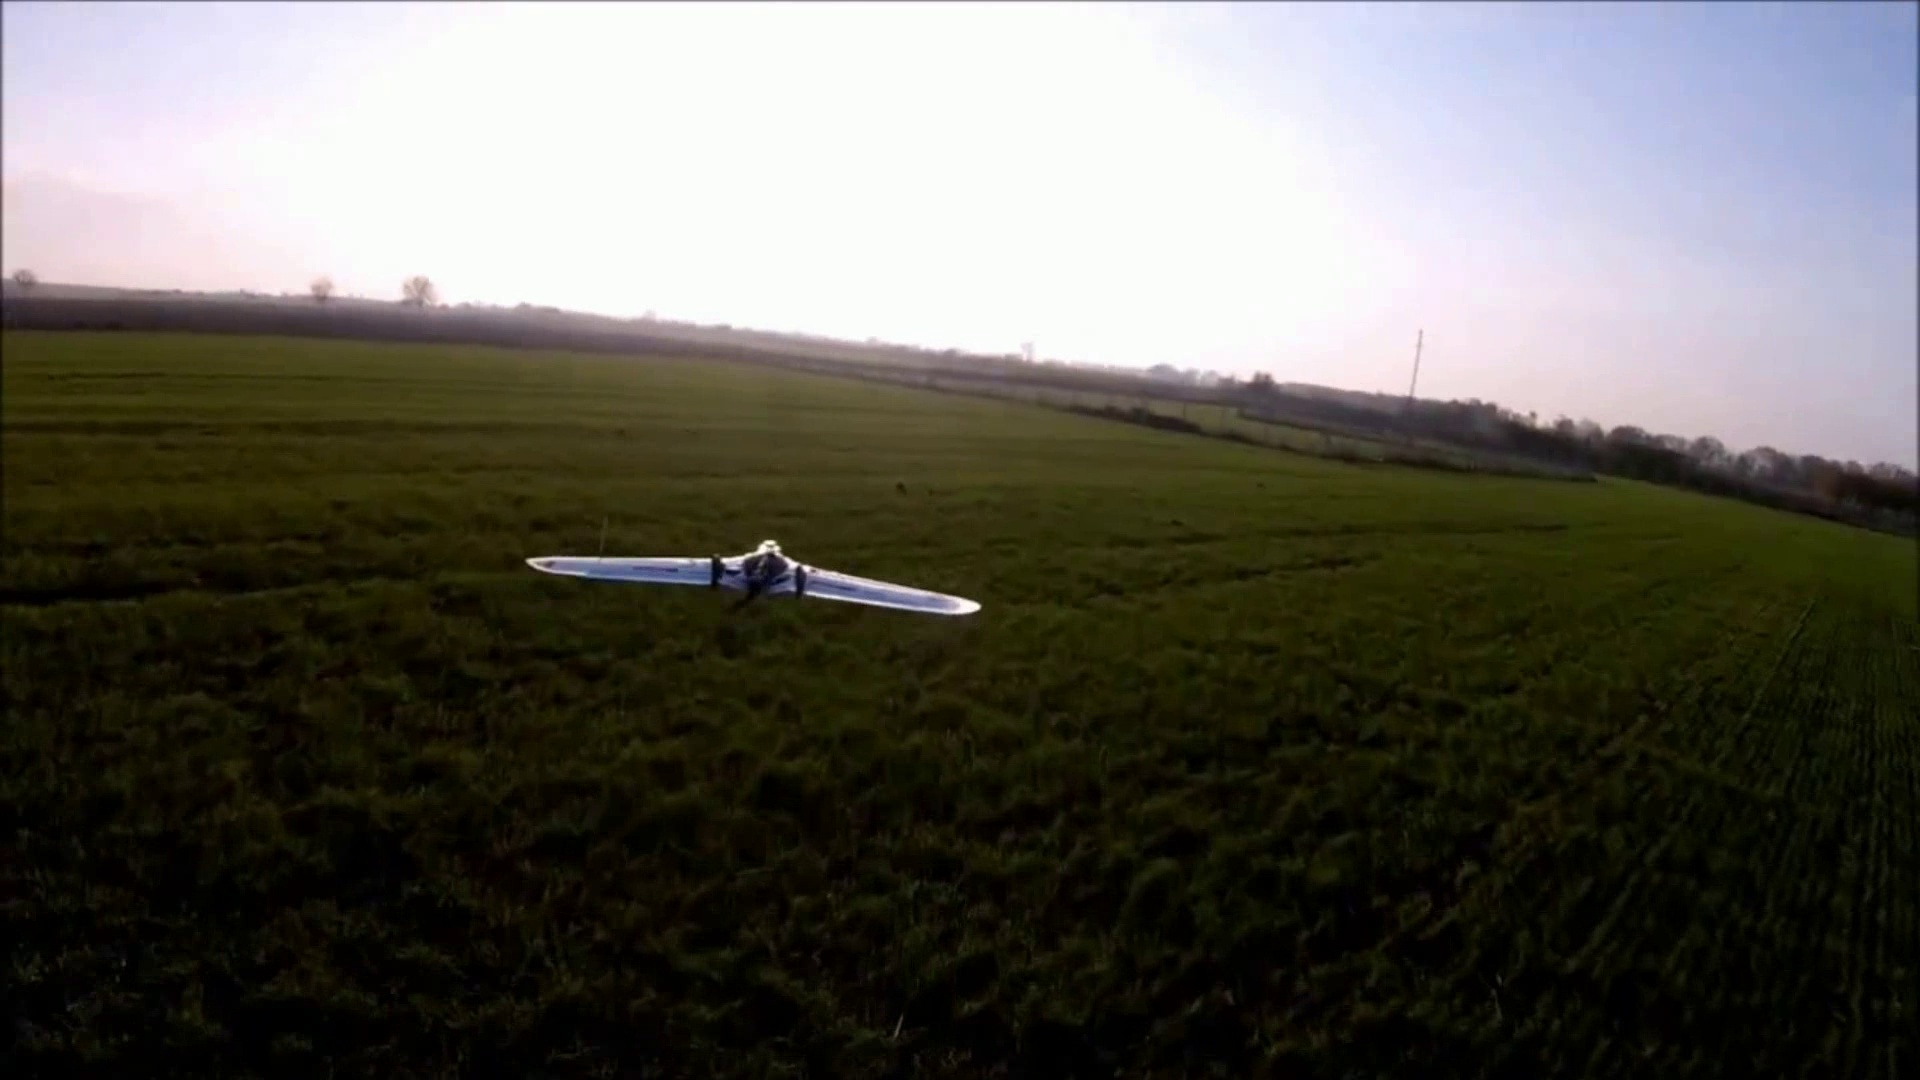airplane: (526, 538, 978, 620)
